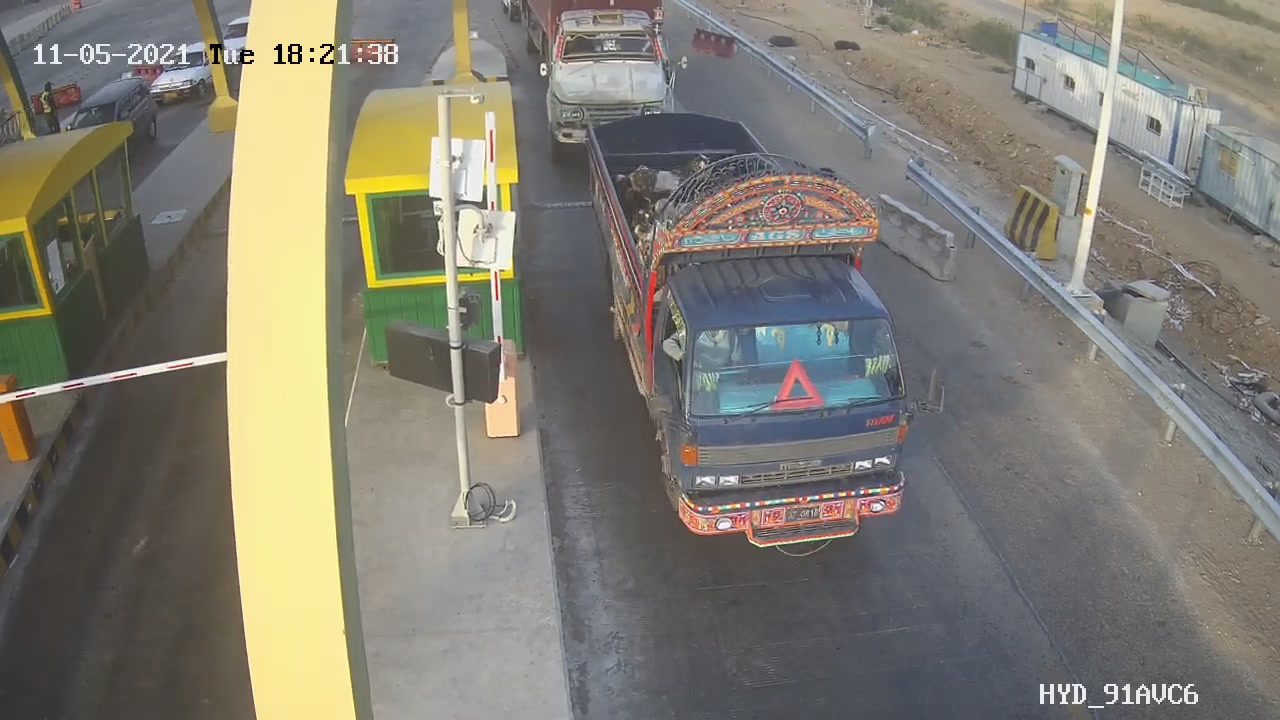F5: (576, 137, 925, 559)
